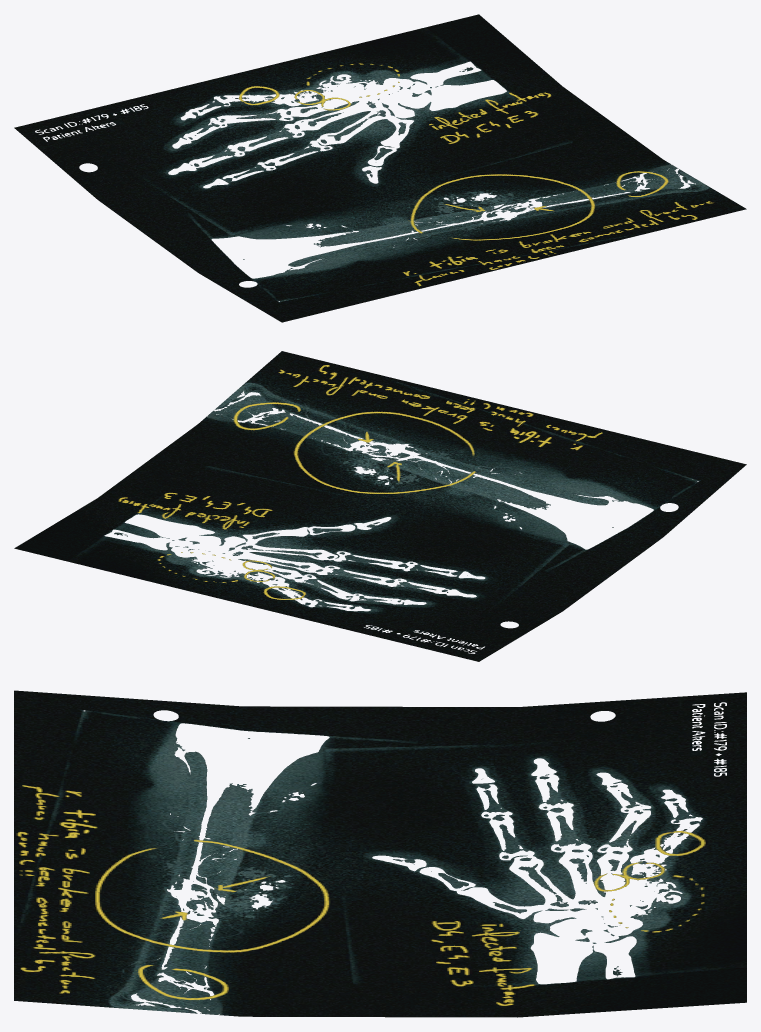
File: theta_infirmary_xray_01.dae
3 renders of one model, top to bottom at view 1: azimuth 30°, elevation 25°; view 2: azimuth 150°, elevation 25°; view 3: azimuth 270°, elevation 25°, orthographic. The views are drawn at different scales.
Visible parts, largest first — view 1: 01; view 2: 01; view 3: 01.
Boxes of the visible parts, left/top/right/bottom form: 01: left=14, top=14, right=746, bottom=322; 01: left=14, top=351, right=746, bottom=661; 01: left=14, top=690, right=746, bottom=1017.
Size of the model in its own units: 0.25 by 0.00624 by 0.2495.
